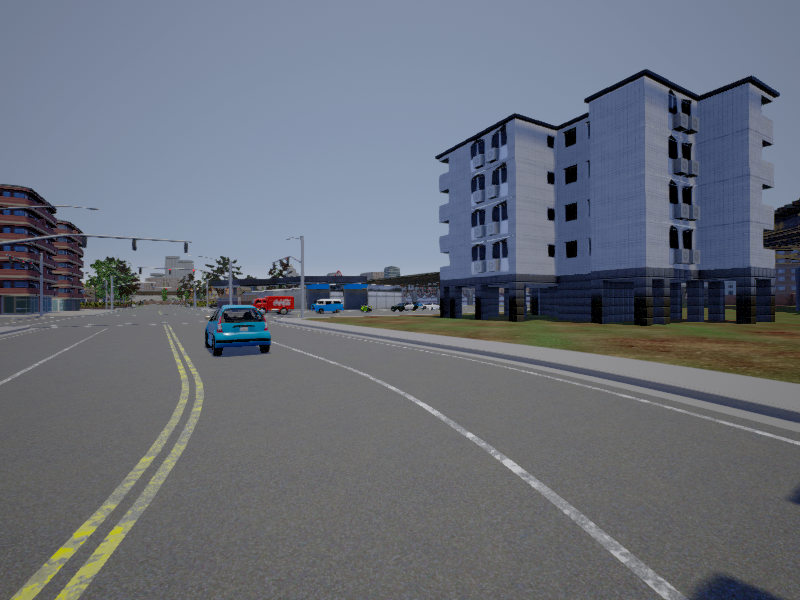Benign: (205, 306, 271, 354), (310, 298, 345, 316), (257, 298, 296, 314), (392, 302, 419, 315)
